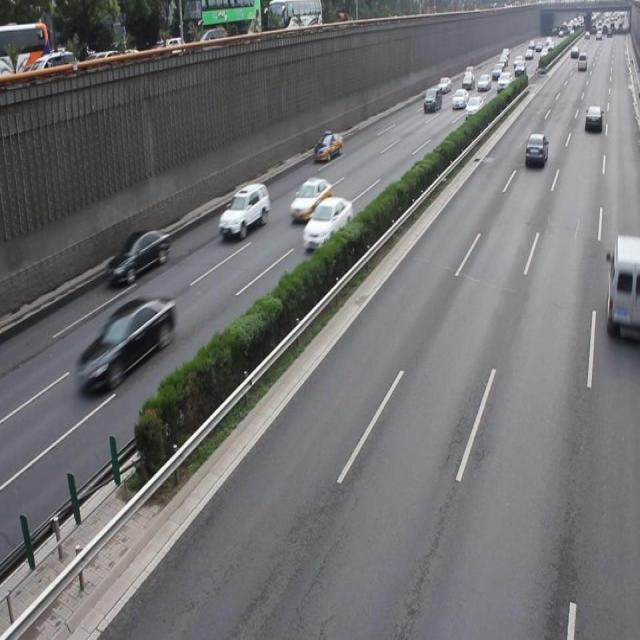car: (74, 297, 174, 388), (107, 224, 170, 284), (606, 234, 640, 338), (219, 181, 270, 240), (302, 197, 353, 253), (288, 176, 331, 222), (311, 130, 342, 160), (523, 133, 547, 167)
